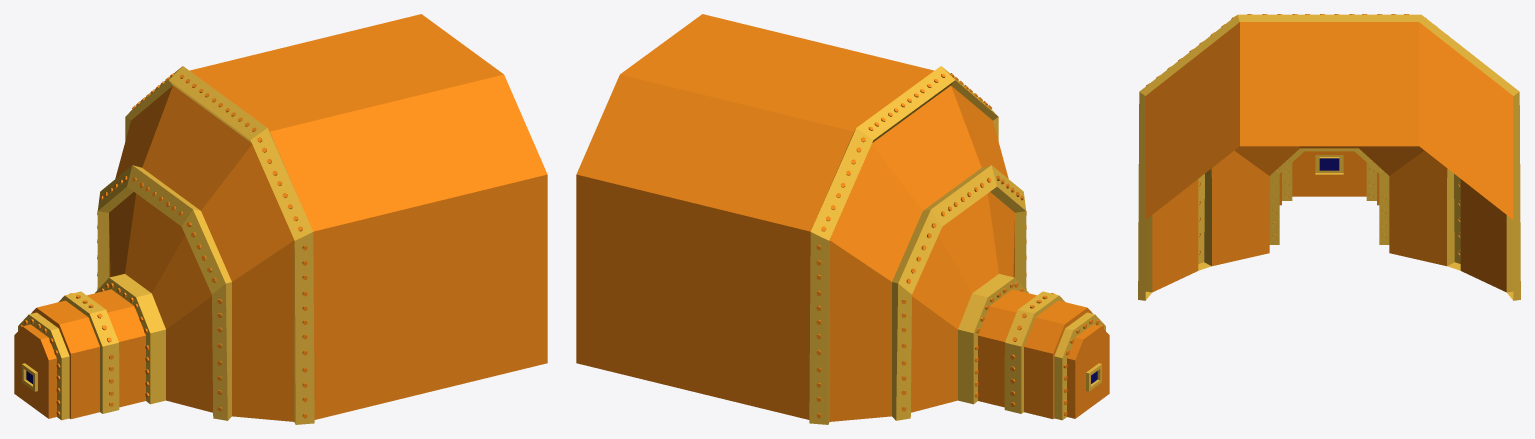
3 renders of one model, left to right at view 1: azimuth 30°, elevation 25°; view 2: azimuth 150°, elevation 25°; view 3: azimuth 270°, elevation 25°, orthographic. The views are drawn at different scales.
Parts seen in each view (by area): view 1: Base; view 2: Base; view 3: Base.
Part boxes in pixels (<box>): Base: <box>14,14,547,424</box>; Base: <box>576,14,1109,424</box>; Base: <box>1138,14,1520,300</box>.
Bounding box in the file's own units: 2554 × 1473 × 1797.
